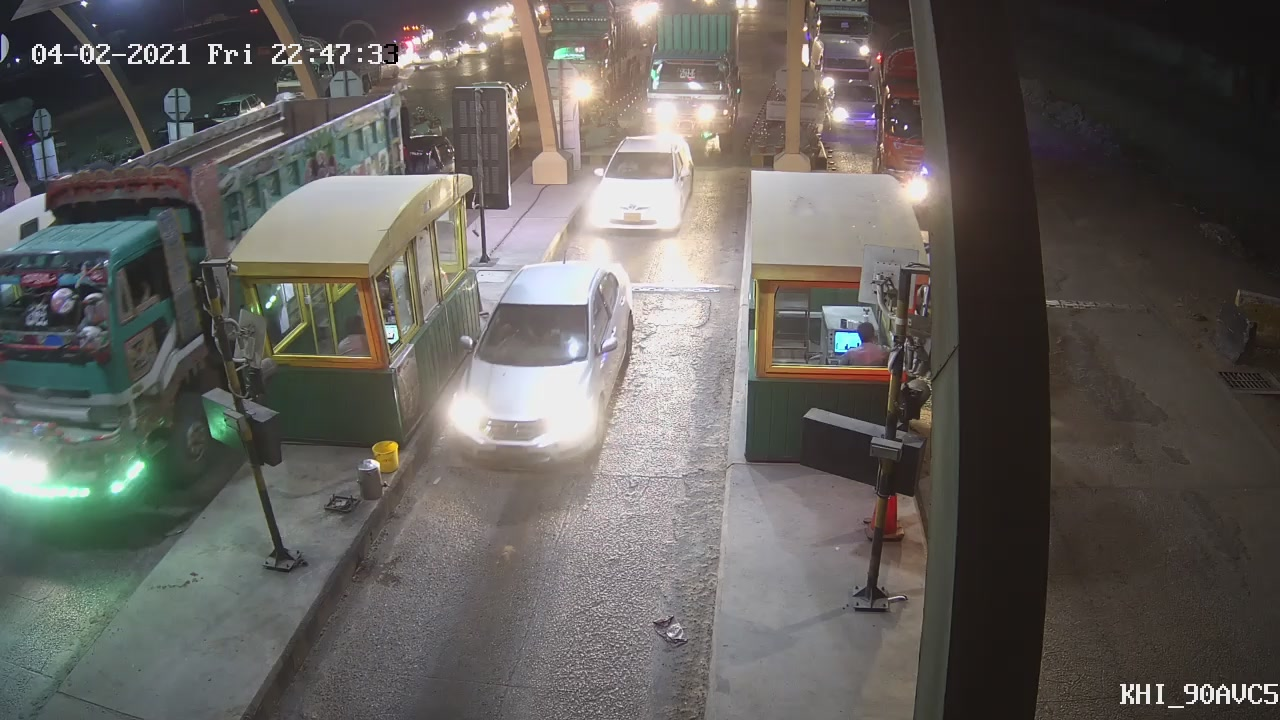F1: (451, 255, 635, 467), (588, 127, 698, 241)
